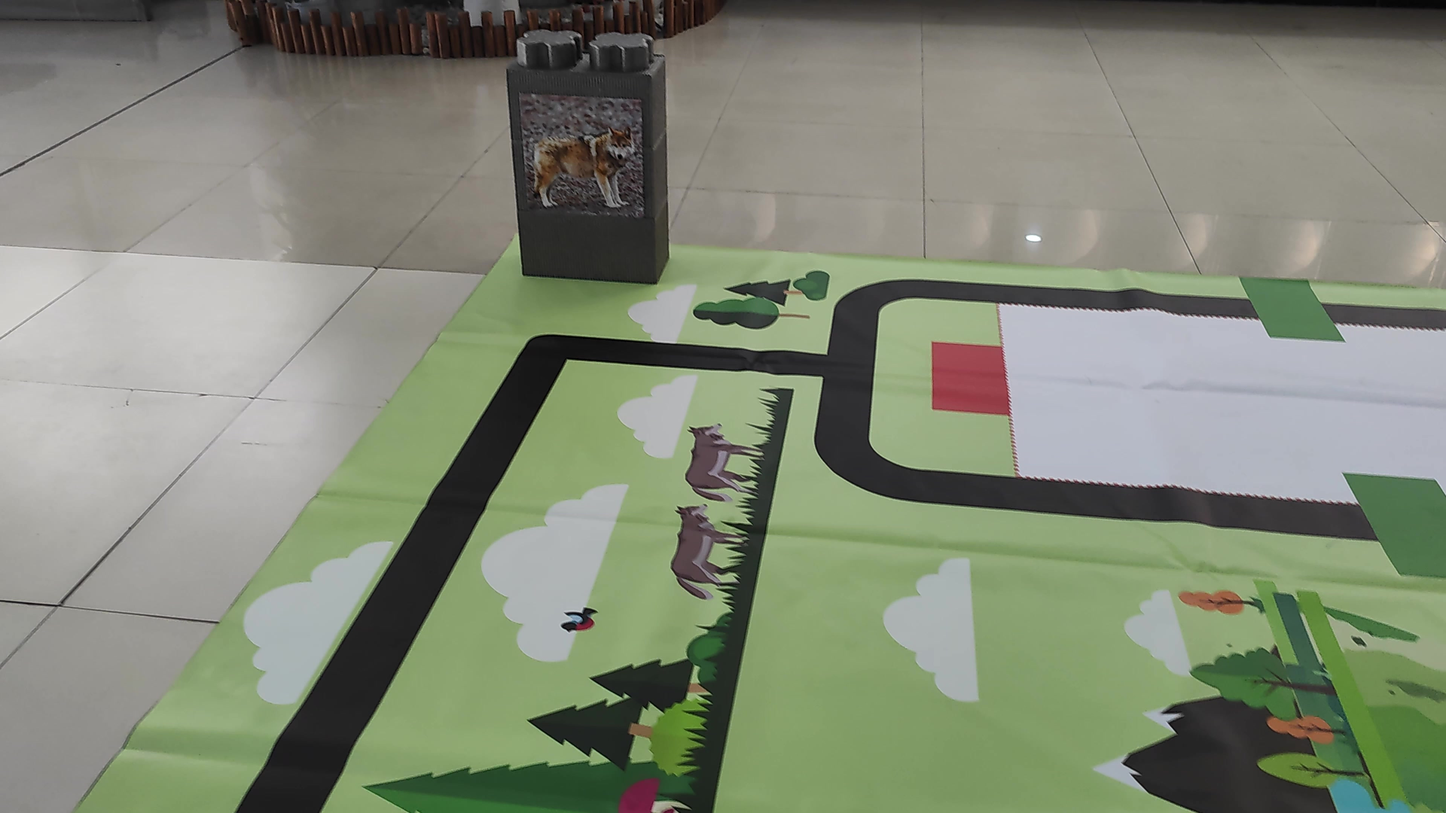wolf: (524, 100, 641, 217)
